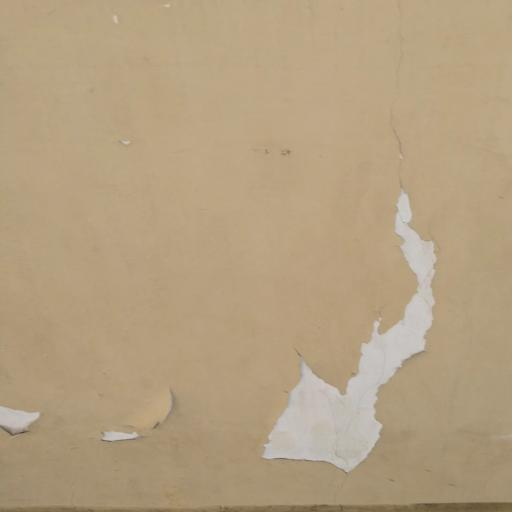peeling: (252, 173, 445, 478), (374, 6, 430, 180), (85, 390, 186, 462), (0, 398, 48, 440)
